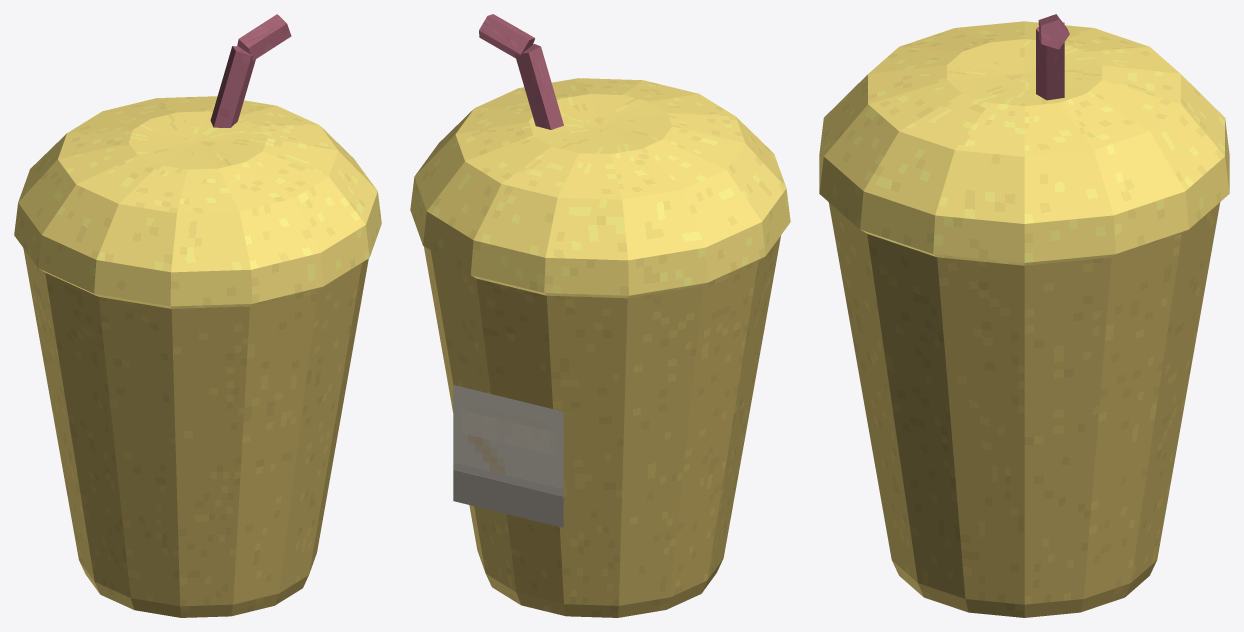
The model's file is frozen_lemonade.glb.
3 renders of one model, left to right at view 1: azimuth 30°, elevation 25°; view 2: azimuth 150°, elevation 25°; view 3: azimuth 270°, elevation 25°, orthographic. The views are drawn at different scales.
Parts seen in each view (by area): view 1: block_tapered cold-drink cup, block_domed cover, block_bent drinking straw 0, block_bent drinking straw 1; view 2: block_tapered cold-drink cup, block_domed cover, block_cup mark, block_bent drinking straw 0, block_bent drinking straw 1; view 3: block_tapered cold-drink cup, block_domed cover, block_bent drinking straw 0, block_bent drinking straw 1.
Boxes of the visible parts, box(x1,y1,x2,y2) form: block_tapered cold-drink cup: box(23, 248, 368, 617); block_domed cover: box(14, 96, 381, 308); block_bent drinking straw 0: box(210, 46, 255, 127); block_bent drinking straw 1: box(237, 14, 291, 60); block_tapered cold-drink cup: box(423, 236, 780, 617); block_domed cover: box(410, 78, 790, 298); block_cup mark: box(453, 385, 563, 527); block_bent drinking straw 0: box(514, 44, 563, 129); block_bent drinking straw 1: box(479, 14, 535, 58); block_tapered cold-drink cup: box(828, 202, 1220, 617); block_domed cover: box(819, 21, 1229, 265); block_bent drinking straw 0: box(1036, 22, 1064, 100); block_bent drinking straw 1: box(1038, 14, 1069, 49).
Bounding box in the file's own units: 0.0825 × 0.129 × 0.0804.
Materials: 1 (1 with a texture image).
